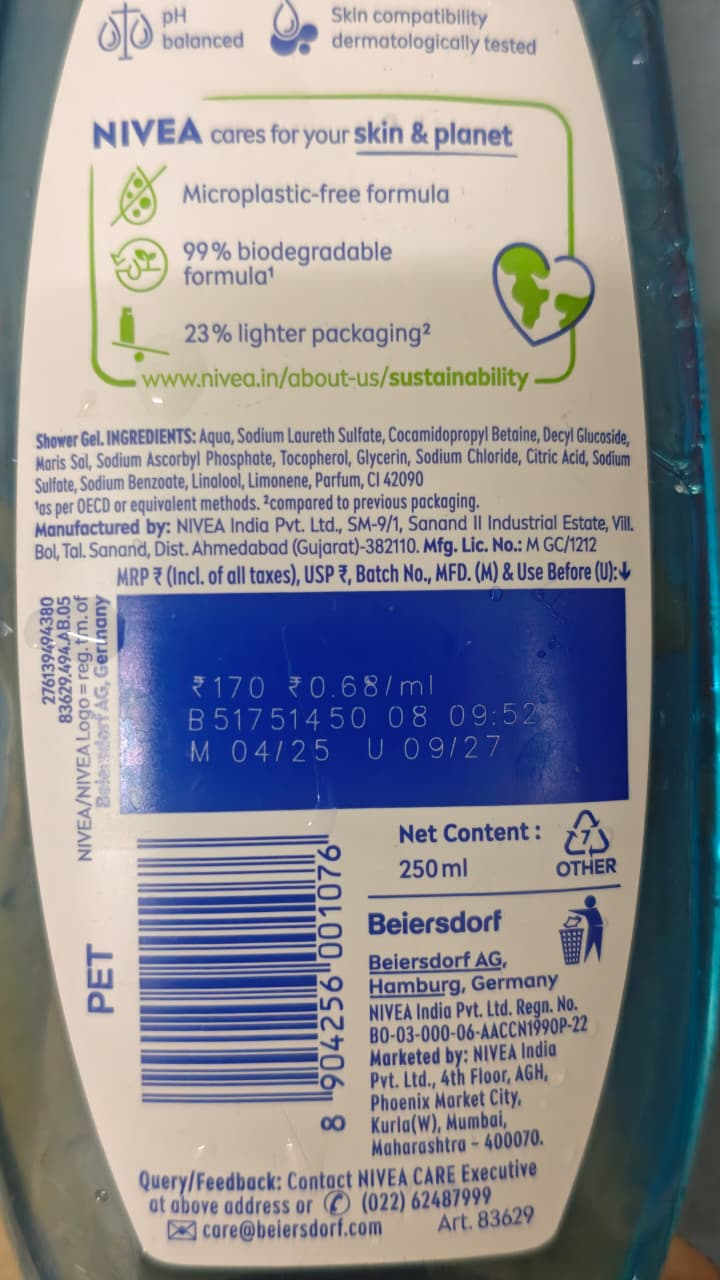Brand: (84, 116, 215, 153)
EXP_Date: (398, 732, 512, 774)
Ingredients: (16, 412, 672, 515)
MFG_Date: (222, 730, 337, 772)
MRP: (176, 668, 282, 709)
